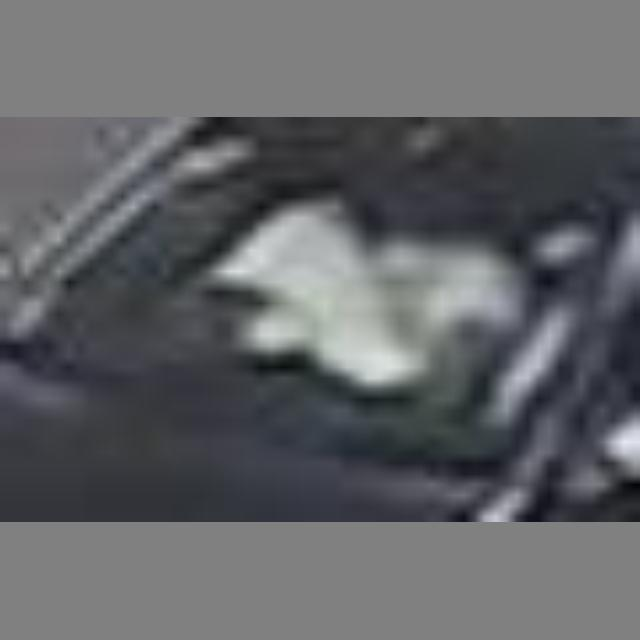tidak-pakai: (213, 160, 555, 437)
